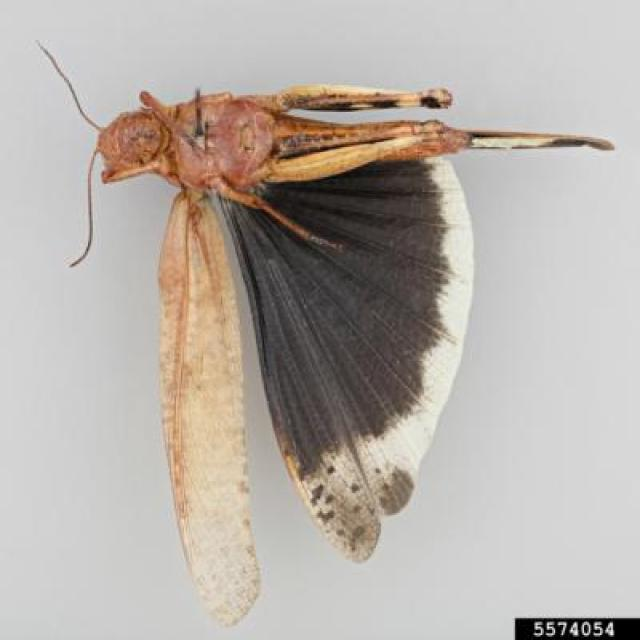antennae: (37, 46, 109, 136), (66, 146, 106, 271)
body: (102, 101, 464, 173)
insect: (35, 38, 614, 633)
legs: (208, 174, 348, 252), (254, 140, 459, 185), (221, 82, 447, 112)
mouthpart: (116, 116, 169, 162)
wings: (152, 156, 470, 630)
